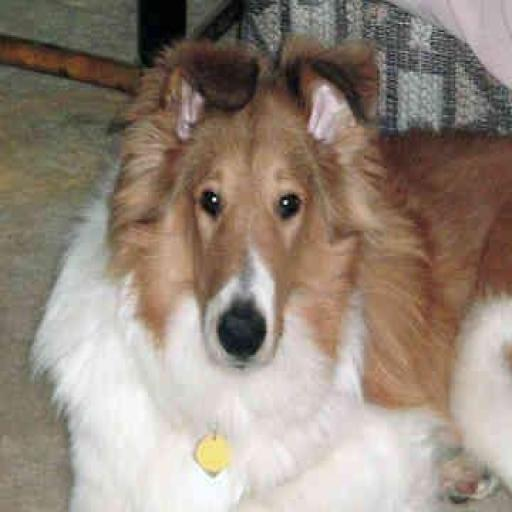dog_face: (146, 36, 372, 370)
